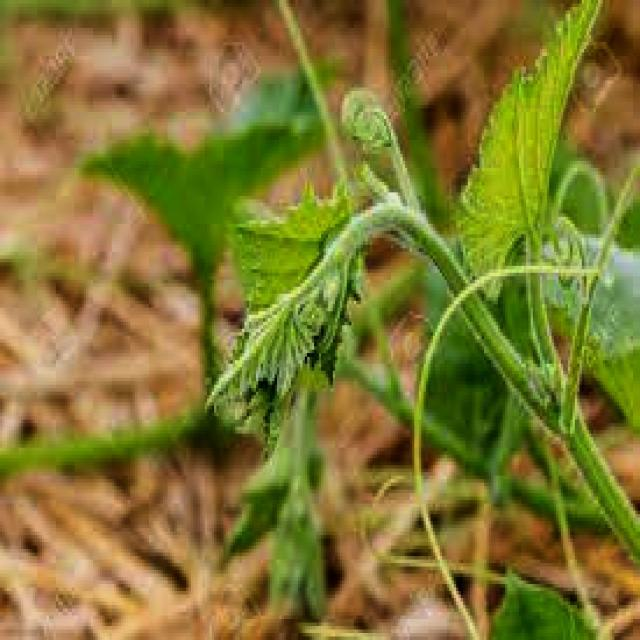NA: (212, 14, 640, 549)
